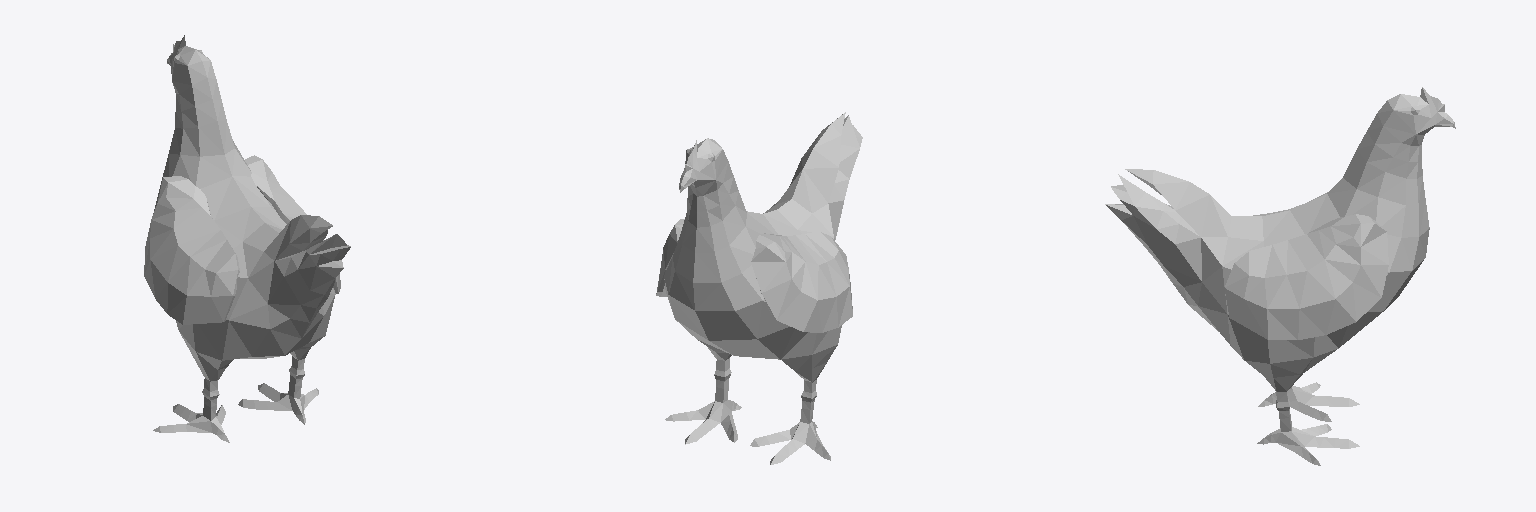
Rendered from gallina.obj.
3 views of the same model, side by side, from view 1: azimuth 30°, elevation 25°; view 2: azimuth 150°, elevation 25°; view 3: azimuth 270°, elevation 25° (orthographic).
Parts seen in each view (by area): view 1: chicken_001; view 2: chicken_001; view 3: chicken_001.
Boxes of the visible parts, x1=… form: chicken_001: x1=144, y1=35, x2=350, y2=442; chicken_001: x1=656, y1=112, x2=862, y2=464; chicken_001: x1=1105, y1=87, x2=1455, y2=465.
Bounding box in the file's own units: 0.2675 × 0.52 × 0.4886.